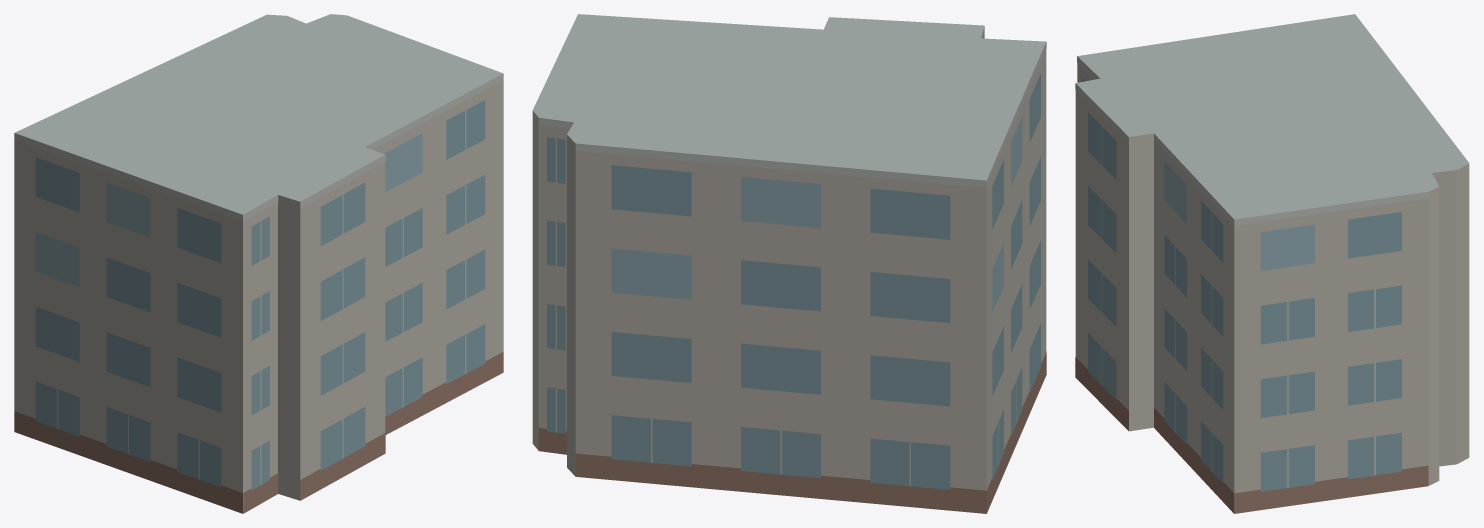
File: survey-upis-32676596.glb
3 renders of one model, left to right at view 1: azimuth 30°, elevation 25°; view 2: azimuth 150°, elevation 25°; view 3: azimuth 270°, elevation 25°, orthographic. The views are drawn at different scales.
Parts seen in each view (by area): view 1: survey-upis-32676596.tmp; view 2: survey-upis-32676596.tmp; view 3: survey-upis-32676596.tmp.
Part boxes in pixels (x1=…): survey-upis-32676596.tmp: x1=14, y1=14, x2=503, y2=513; survey-upis-32676596.tmp: x1=532, y1=14, x2=1046, y2=513; survey-upis-32676596.tmp: x1=1075, y1=14, x2=1469, y2=513.
Size of the model in its own units: 16.36 by 10.92 by 13.26.
